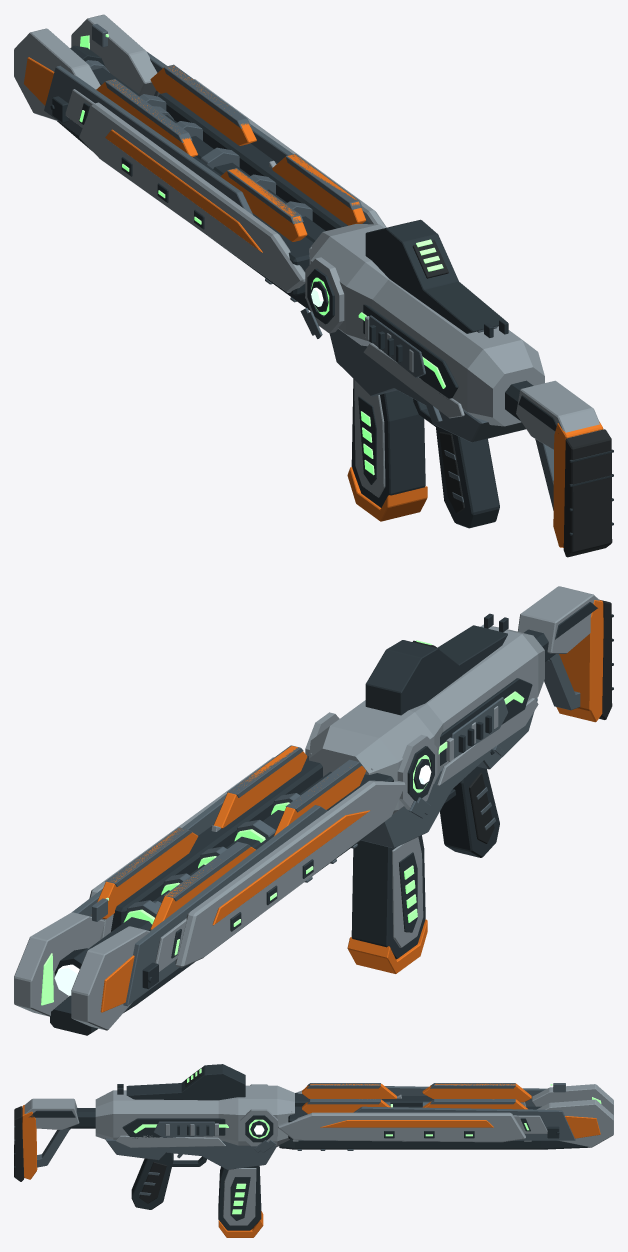
3 renders of one model, top to bottom at view 1: azimuth 30°, elevation 25°; view 2: azimuth 150°, elevation 25°; view 3: azimuth 270°, elevation 25°, orthographic. The views are drawn at different scales.
Parts seen in each view (by area): view 1: Body | 01 | ceramic gray receiver, Body | 03 | graphite steel, Body | 02 | machined edge metal, Body | 04 | burnt orange enamel, Body | 05 | charcoal grip polymer, Magazine | 03 | graphite steel, Magazine | 01 | ceramic gray receiver, Magazine | 04 | burnt orange enamel, Body | 06 | lime status emitters; view 2: Body | 01 | ceramic gray receiver, Body | 03 | graphite steel, Body | 02 | machined edge metal, Body | 04 | burnt orange enamel, Magazine | 03 | graphite steel, Body | 05 | charcoal grip polymer, Body | 06 | lime status emitters, Magazine | 01 | ceramic gray receiver, Magazine | 04 | burnt orange enamel, Body | 08 | plasma heart; view 3: Body | 01 | ceramic gray receiver, Body | 03 | graphite steel, Body | 02 | machined edge metal, Body | 04 | burnt orange enamel, Magazine | 03 | graphite steel, Body | 05 | charcoal grip polymer, Magazine | 01 | ceramic gray receiver, Body | 06 | lime status emitters, Magazine | 04 | burnt orange enamel.
Part boxes in pixels (x1=…): Body | 01 | ceramic gray receiver: x1=14, y1=14, x2=600, y2=449; Body | 03 | graphite steel: x1=50, y1=45, x2=613, y2=535; Body | 02 | machined edge metal: x1=44, y1=24, x2=553, y2=510; Body | 04 | burnt orange enamel: x1=24, y1=57, x2=603, y2=547; Body | 05 | charcoal grip polymer: x1=412, y1=240, x2=612, y2=557; Magazine | 03 | graphite steel: x1=351, y1=379, x2=425, y2=507; Magazine | 01 | ceramic gray receiver: x1=354, y1=380, x2=385, y2=497; Magazine | 04 | burnt orange enamel: x1=347, y1=467, x2=427, y2=521; Body | 06 | lime status emitters: x1=79, y1=34, x2=445, y2=388; Body | 01 | ceramic gray receiver: x1=14, y1=586, x2=599, y2=1030; Body | 03 | graphite steel: x1=50, y1=602, x2=613, y2=1035; Body | 02 | machined edge metal: x1=72, y1=654, x2=580, y2=1006; Body | 04 | burnt orange enamel: x1=97, y1=600, x2=603, y2=1012; Magazine | 03 | graphite steel: x1=351, y1=835, x2=425, y2=959; Body | 05 | charcoal grip polymer: x1=413, y1=599, x2=612, y2=843; Body | 06 | lime status emitters: x1=41, y1=640, x2=524, y2=1005; Magazine | 01 | ceramic gray receiver: x1=392, y1=837, x2=423, y2=947; Magazine | 04 | burnt orange enamel: x1=347, y1=919, x2=427, y2=973; Body | 08 | plasma heart: x1=54, y1=765, x2=431, y2=995; Body | 01 | ceramic gray receiver: x1=22, y1=1084, x2=613, y2=1147; Body | 03 | graphite steel: x1=14, y1=1064, x2=591, y2=1209; Body | 02 | machined edge metal: x1=37, y1=1083, x2=575, y2=1195; Body | 04 | burnt orange enamel: x1=22, y1=1083, x2=600, y2=1179; Magazine | 03 | graphite steel: x1=218, y1=1166, x2=261, y2=1230; Body | 05 | charcoal grip polymer: x1=14, y1=1068, x2=282, y2=1203; Magazine | 01 | ceramic gray receiver: x1=223, y1=1168, x2=256, y2=1225; Body | 06 | lime status emitters: x1=133, y1=1068, x2=601, y2=1138; Magazine | 04 | burnt orange enamel: x1=218, y1=1211, x2=263, y2=1237.
Size of the model in its own units: 0.162 by 0.4054 by 1.35.
